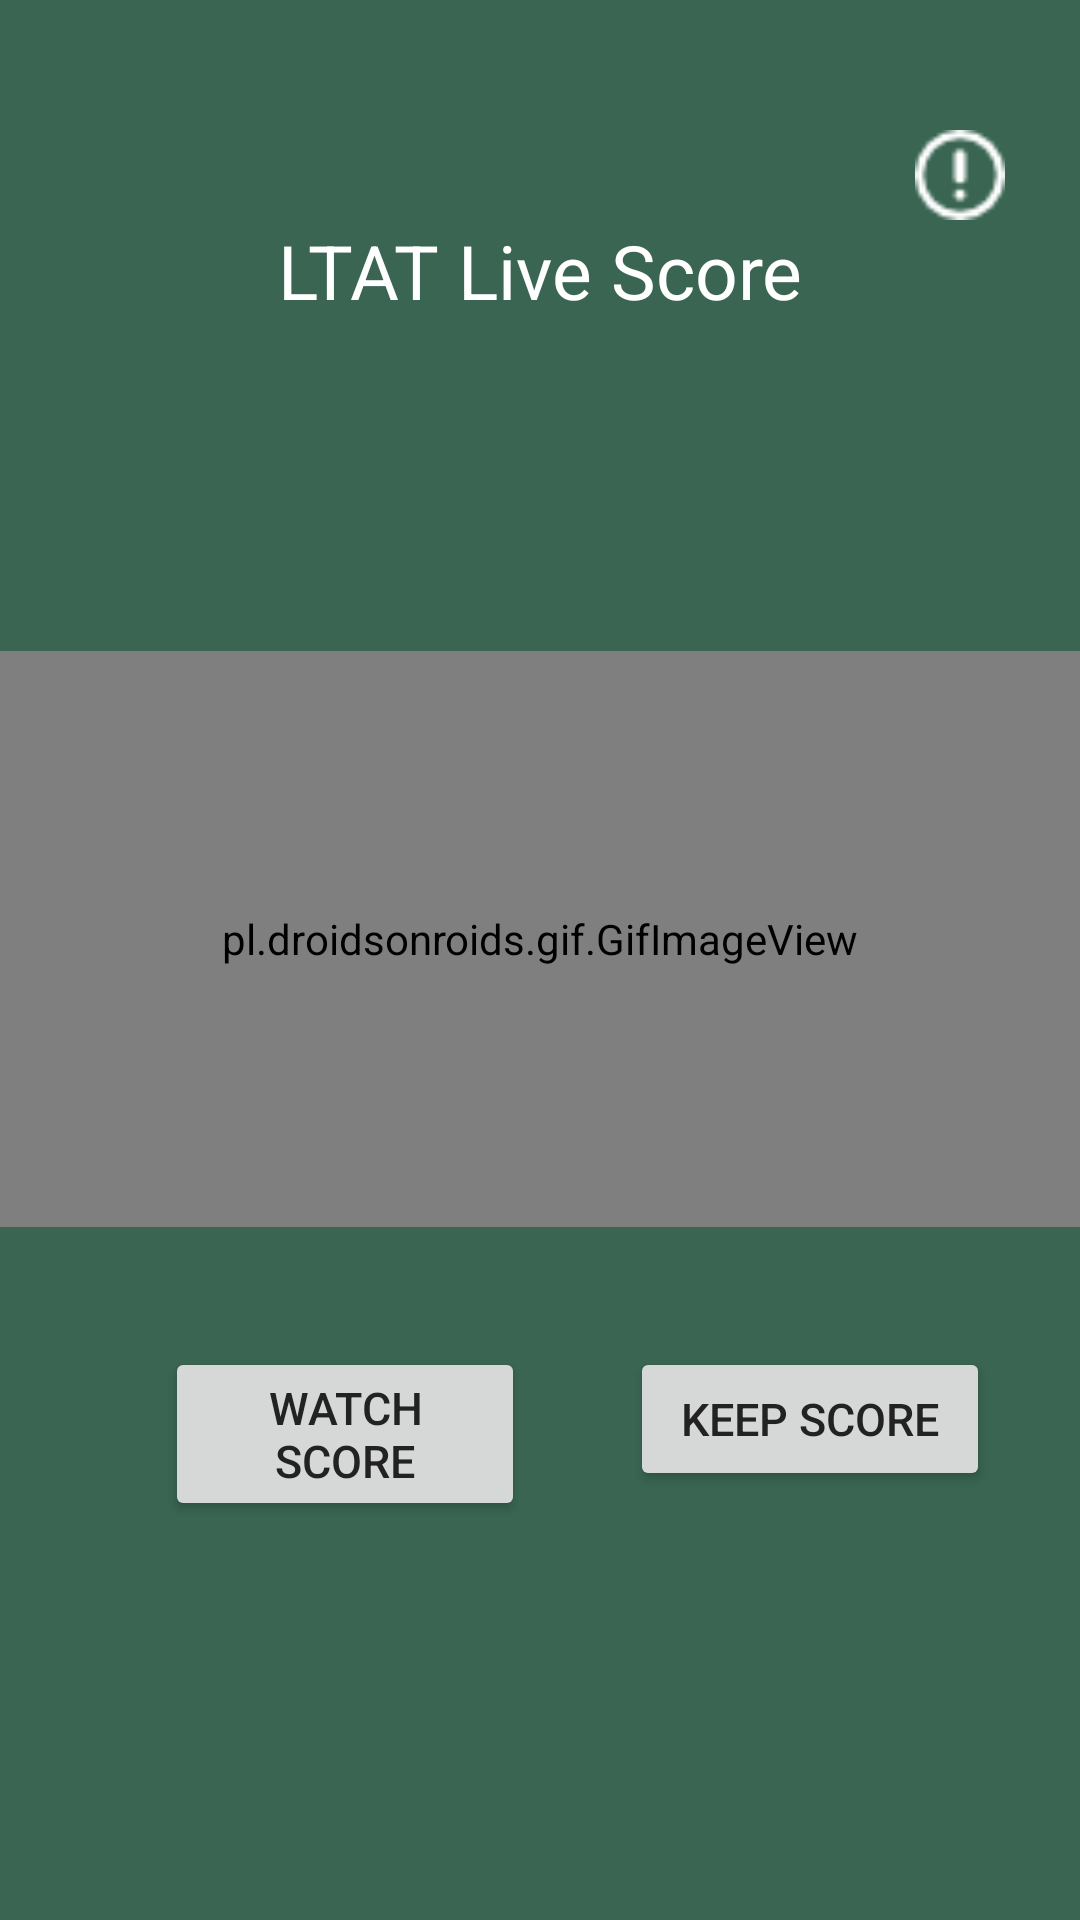

Icon click points for this 1080x1920 phone screenshot, format point (x, y):
abouts: point (960, 175)
